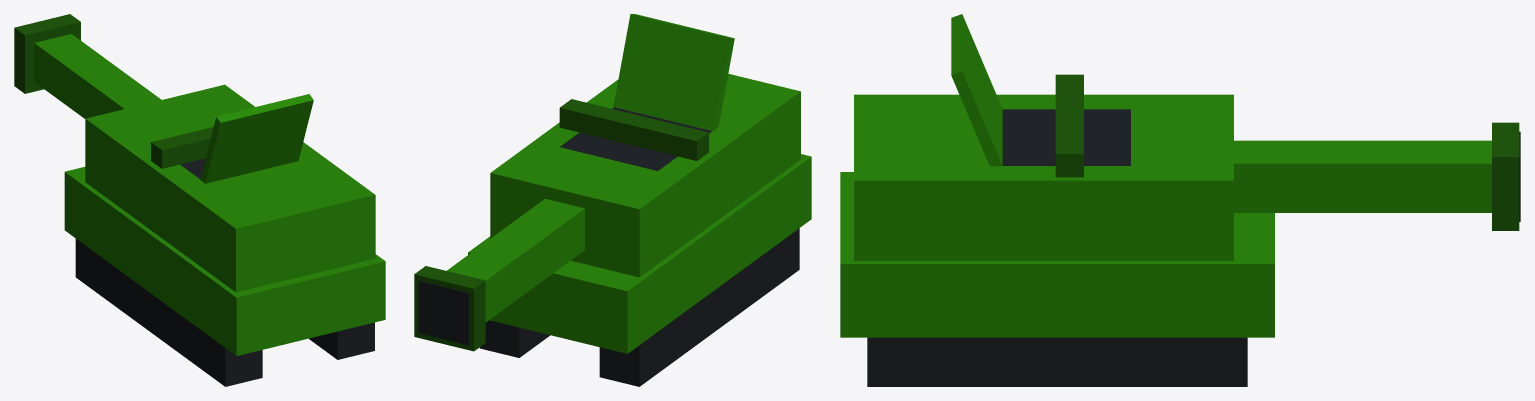
The model's file is Kart.glb.
The picture shows the model from 3 angles, left to right: view 1: azimuth 30°, elevation 25°; view 2: azimuth 150°, elevation 25°; view 3: azimuth 270°, elevation 25°; orthographic projection. The views are drawn at different scales.
Parts seen in each view (by area): view 1: Cube.012, Cube.006, Cube.003, Cube.015, Cube.001, Cube.011, Cube.009, Cube.004, Cube.013, Cube.005, Cube.010, Cube.007; view 2: Cube.012, Cube.015, Cube.003, Cube.011, Cube.001, Cube.009, Cube.007, Cube.013, Cube.010, Cube.002, Cube.004, Cube.014 (+2 smaller); view 3: Cube.012, Cube.008, Cube.005, Cube.011, Cube.001, Cube.014, Cube.015, Cube.010, Cube.004, Cube.013, Cube.007, Cube.006.
Part boxes in pixels (x1,y1,x2,y2): Cube.012: [85, 84, 375, 292]; Cube.006: [226, 255, 385, 336]; Cube.003: [75, 238, 262, 386]; Cube.015: [200, 94, 313, 183]; Cube.001: [64, 211, 385, 355]; Cube.011: [34, 34, 161, 118]; Cube.009: [75, 180, 225, 328]; Cube.004: [14, 14, 80, 93]; Cube.013: [151, 127, 213, 168]; Cube.005: [309, 322, 374, 359]; Cube.010: [64, 172, 382, 315]; Cube.007: [64, 167, 85, 217]; Cube.012: [490, 73, 800, 277]; Cube.015: [613, 14, 734, 131]; Cube.003: [599, 228, 799, 386]; Cube.011: [447, 198, 584, 322]; Cube.001: [489, 198, 811, 353]; Cube.009: [639, 165, 800, 324]; Cube.007: [468, 244, 638, 332]; Cube.013: [559, 99, 708, 160]; Cube.010: [480, 154, 811, 311]; Cube.002: [418, 280, 468, 345]; Cube.004: [414, 266, 485, 351]; Cube.014: [560, 107, 711, 170]; Cube.012: [854, 94, 1233, 260]; Cube.008: [867, 256, 1247, 312]; Cube.005: [867, 337, 1247, 386]; Cube.011: [1234, 140, 1491, 212]; Cube.001: [840, 313, 1274, 337]; Cube.014: [1002, 109, 1130, 165]; Cube.015: [951, 14, 1002, 166]; Cube.010: [840, 172, 1274, 288]; Cube.004: [1492, 122, 1519, 230]; Cube.013: [1055, 74, 1083, 177]; Cube.007: [1247, 213, 1274, 312]; Cube.006: [840, 172, 867, 312].
Bounding box in the file's own units: 0.8 × 1.21 × 2.5.
1 material, 1 textured.
